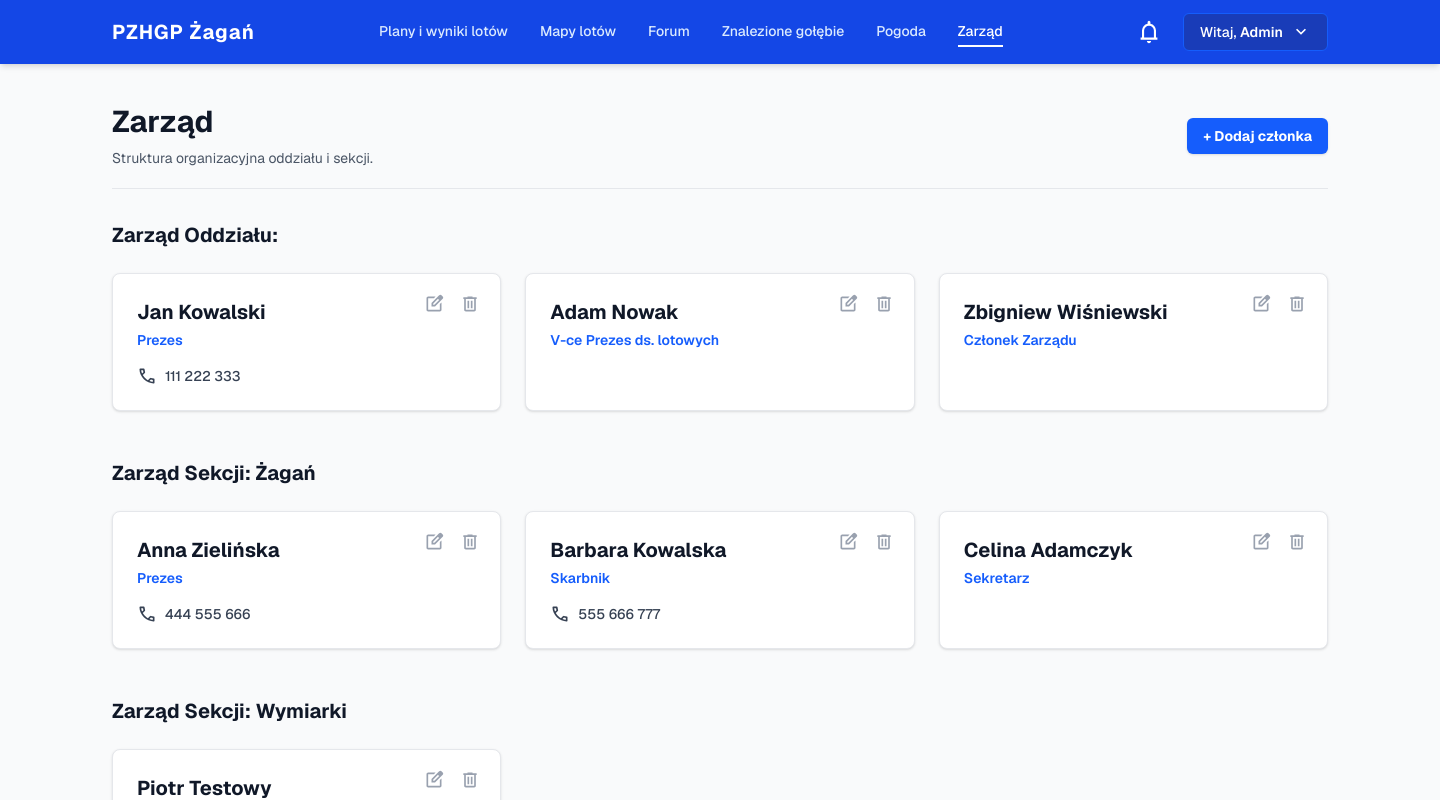
Test: Board Page Tests › Should load administrator form dictionaries only after the modal is opened
What coordinates should you click on to do the following:
click the button "+ Dodaj członka"
I would click on:
 (1258, 136)
Its box is [1187,118,1328,154].
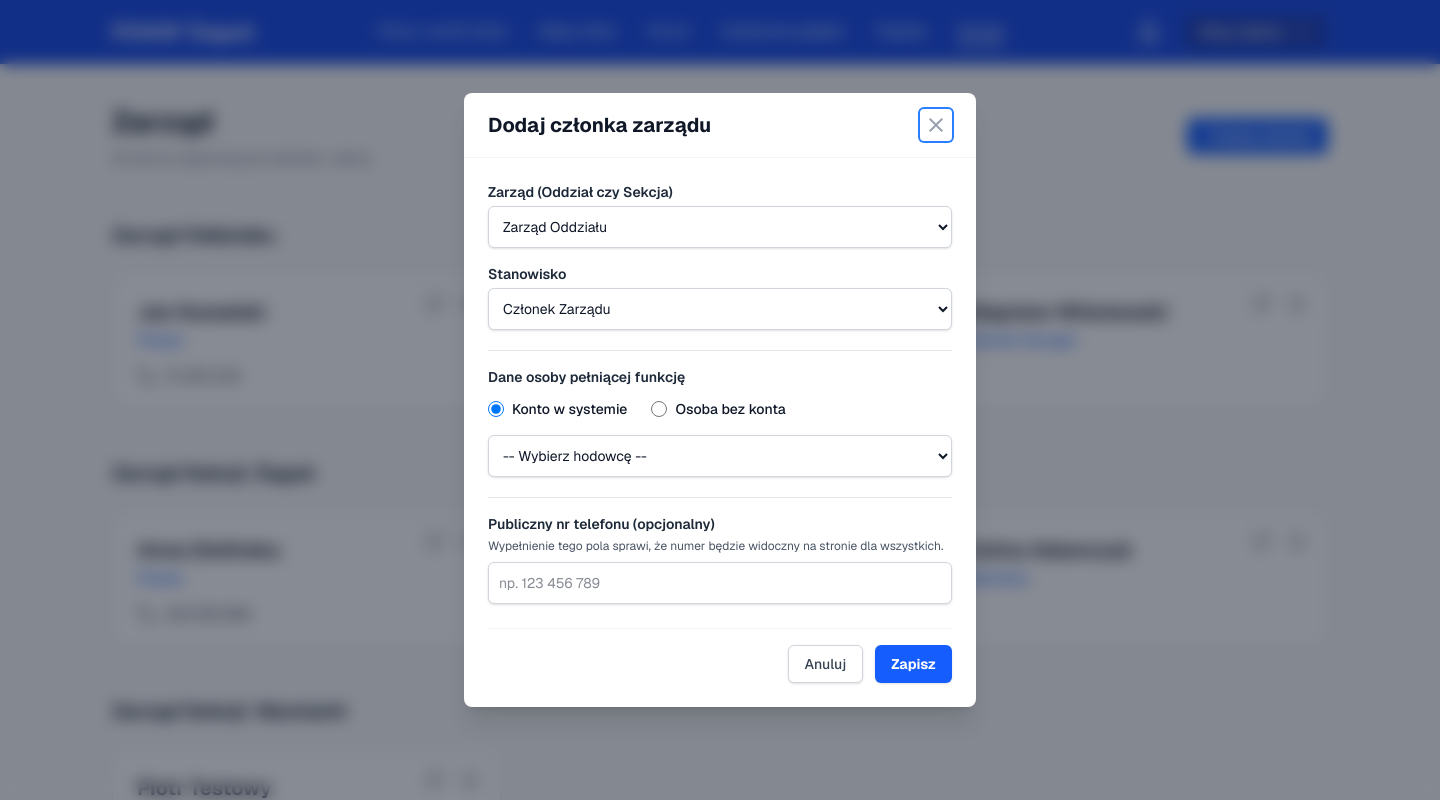
Expected: the heading "Dodaj członka zarządu" is shown, [488,111,711,139]
